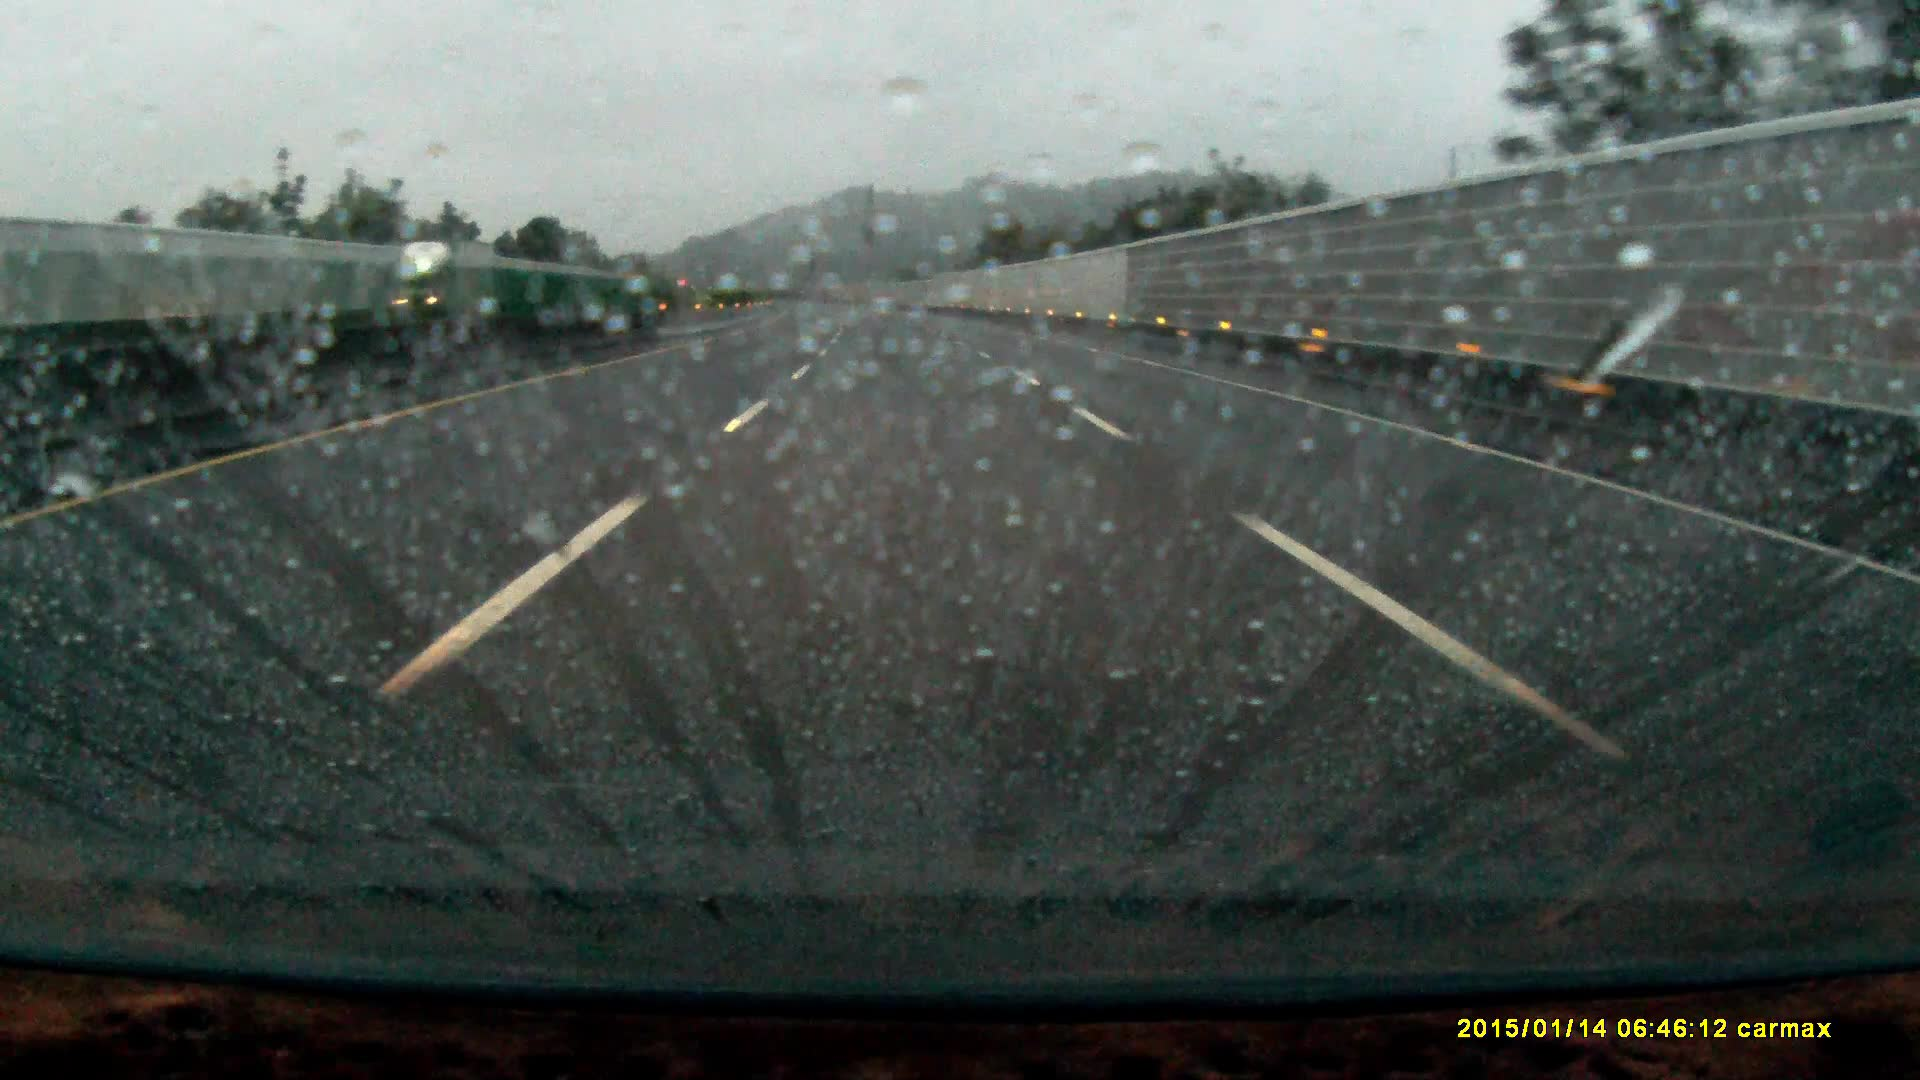vehicle: (396, 237, 491, 323)
